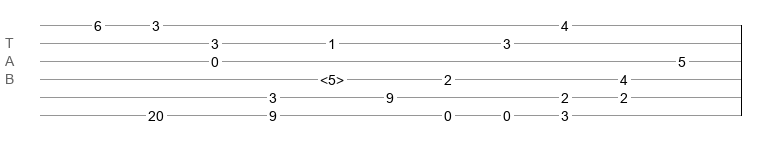0: (211, 54, 219, 64), (444, 108, 452, 118), (503, 108, 511, 118)
1: (328, 36, 336, 46)
2: (444, 72, 452, 82), (561, 90, 569, 100), (620, 90, 628, 100)
20: (148, 108, 164, 118)
3: (152, 18, 160, 28), (211, 36, 219, 46), (269, 90, 277, 100), (503, 36, 511, 46), (561, 108, 569, 118)
4: (561, 18, 569, 28), (620, 72, 628, 82)
5: (678, 54, 686, 64)
6: (94, 18, 102, 28)
9: (269, 108, 277, 118), (386, 90, 394, 100)
harmonic: (320, 72, 344, 82)
